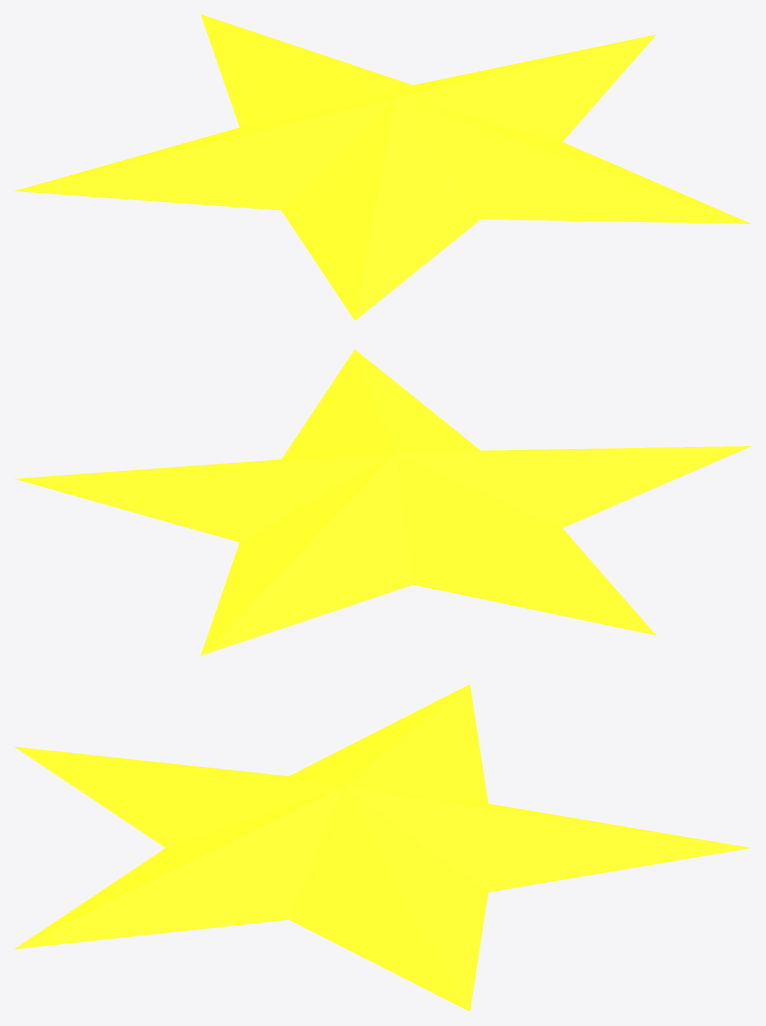
Rendered from unit_star_gold.glb.
3 renders of one model, top to bottom at view 1: azimuth 30°, elevation 25°; view 2: azimuth 150°, elevation 25°; view 3: azimuth 270°, elevation 25°, orthographic. The views are drawn at different scales.
Parts seen in each view (by area): view 1: unit_star_gold_star; view 2: unit_star_gold_star; view 3: unit_star_gold_star.
Boxes of the visible parts, x1=… form: unit_star_gold_star: x1=14, y1=14, x2=751, y2=320; unit_star_gold_star: x1=14, y1=349, x2=751, y2=655; unit_star_gold_star: x1=14, y1=684, x2=750, y2=1011.
Bounding box in the file's own units: 0.913 × 0.16 × 0.8683.
